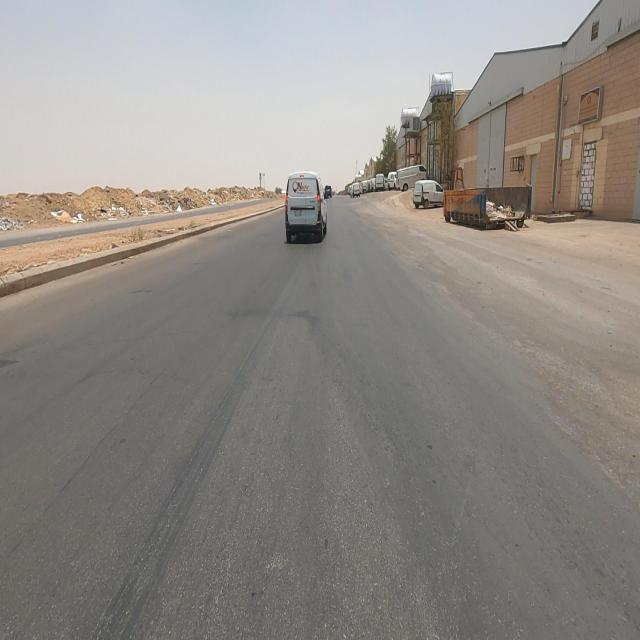debris: (467, 166, 532, 256), (30, 187, 106, 244), (0, 192, 39, 247), (98, 182, 136, 234), (161, 186, 192, 235), (192, 178, 224, 224), (83, 185, 109, 235)
